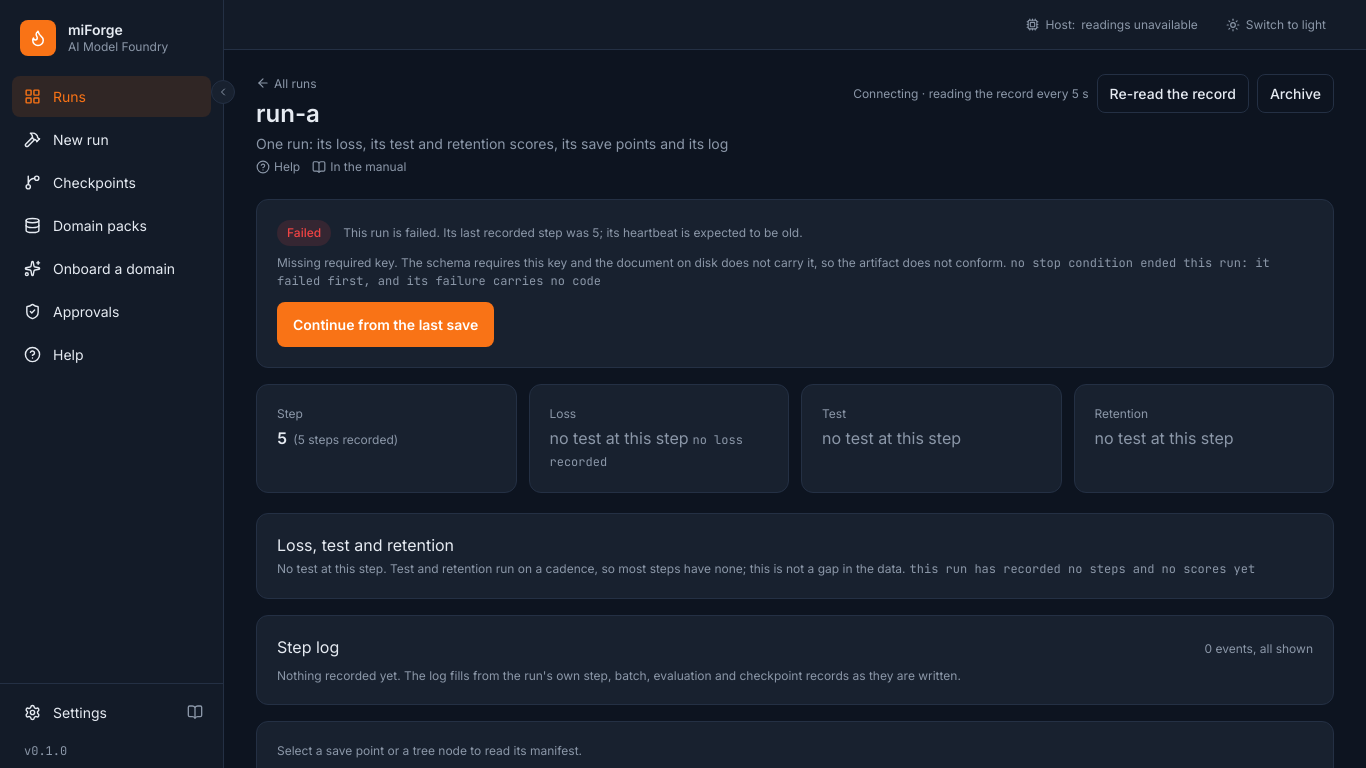
[ContinueRun] › should show the served-model refusal by name, with the operator action
Click the button "Continue from the last save".
click(386, 325)  # box [277,302,494,348]
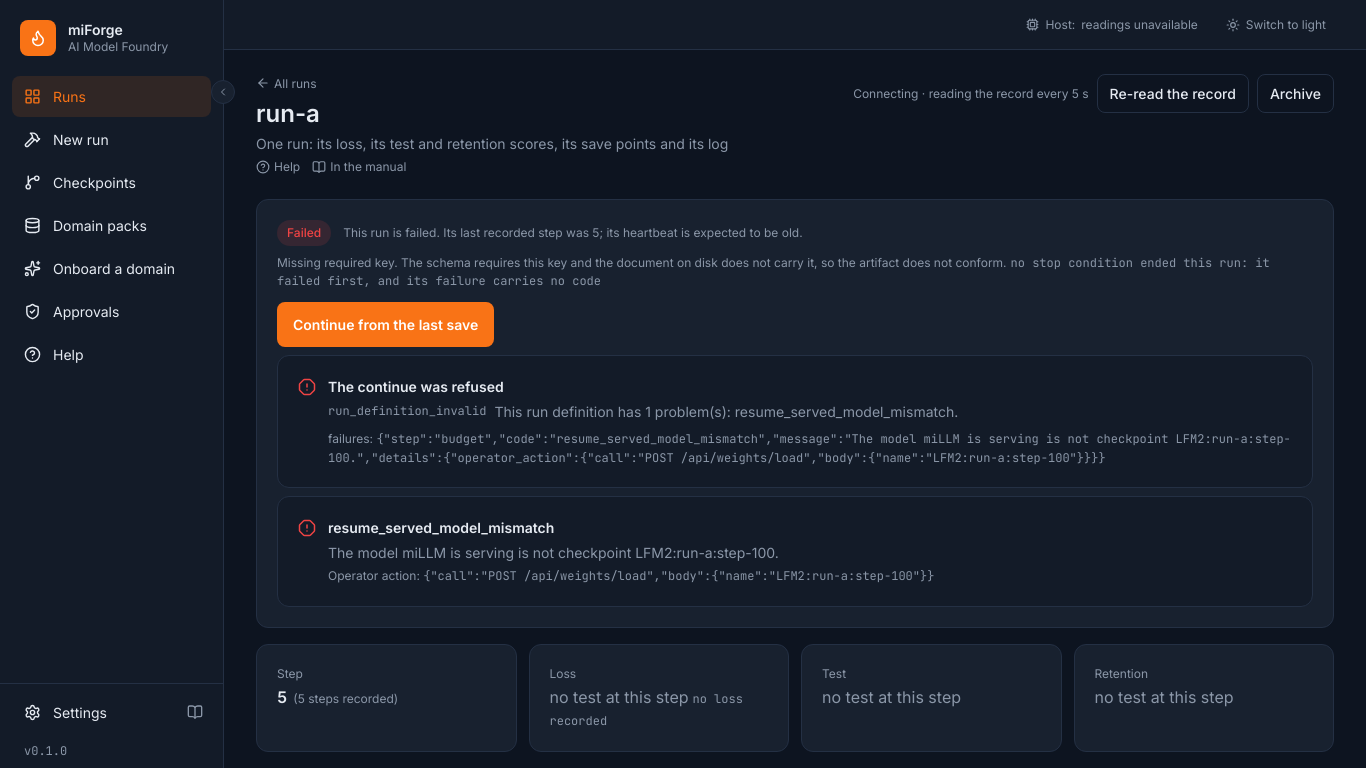
Check: the message with test id "continue-failure" shows "resume_served_model_mismatch", box [328,519,554,536]
Check: the message with test id "continue-failure" shows "POST /api/weights/load", box [423,568,934,584]
